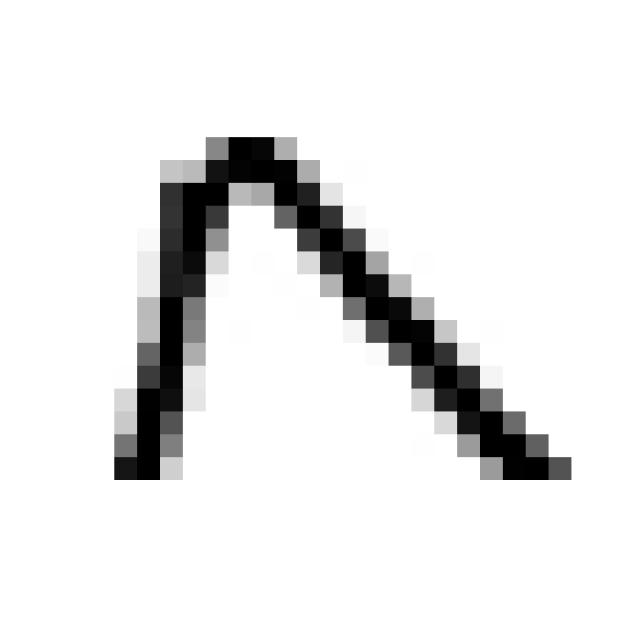8 -eight-: (91, 117, 594, 506)
